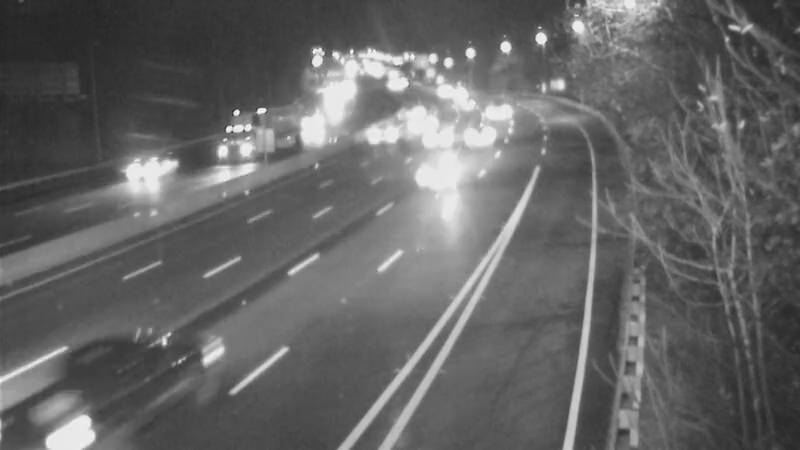vehicle: (46, 327, 156, 437), (400, 140, 480, 220), (107, 125, 187, 205), (196, 112, 276, 192), (418, 65, 468, 115), (435, 66, 485, 116), (436, 83, 486, 133), (389, 87, 439, 137), (468, 86, 518, 136), (397, 100, 447, 150), (451, 109, 501, 159), (412, 115, 462, 165), (351, 112, 401, 162), (287, 95, 337, 145)
